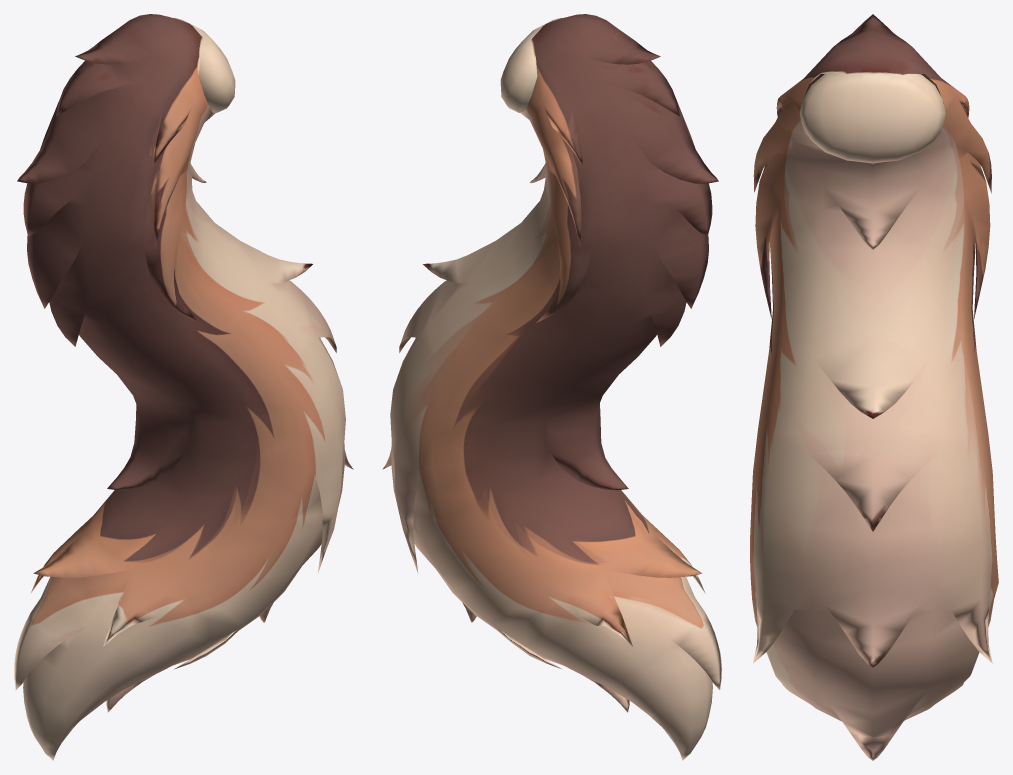
Rendered from succubus_tail_v1_tex.fbx.
3 views of the same model, side by side, from view 1: azimuth 30°, elevation 25°; view 2: azimuth 150°, elevation 25°; view 3: azimuth 270°, elevation 25° (orthographic). The views are drawn at different scales.
Visible parts, largest first — view 1: b5bbdefc_6d8d_4b80_b0fe_e011ffb93c7b; view 2: b5bbdefc_6d8d_4b80_b0fe_e011ffb93c7b; view 3: b5bbdefc_6d8d_4b80_b0fe_e011ffb93c7b.
Part boxes in pixels (bbox=[...]): b5bbdefc_6d8d_4b80_b0fe_e011ffb93c7b: bbox=[14, 14, 353, 760]; b5bbdefc_6d8d_4b80_b0fe_e011ffb93c7b: bbox=[382, 14, 721, 760]; b5bbdefc_6d8d_4b80_b0fe_e011ffb93c7b: bbox=[750, 14, 998, 760].
Size of the model in its own units: 0.4927 by 0.9995 by 0.2964.
Materials: 1 (1 with a texture image).
